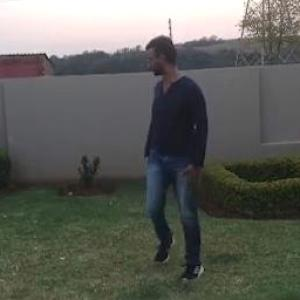follow: (143, 31, 213, 282)
